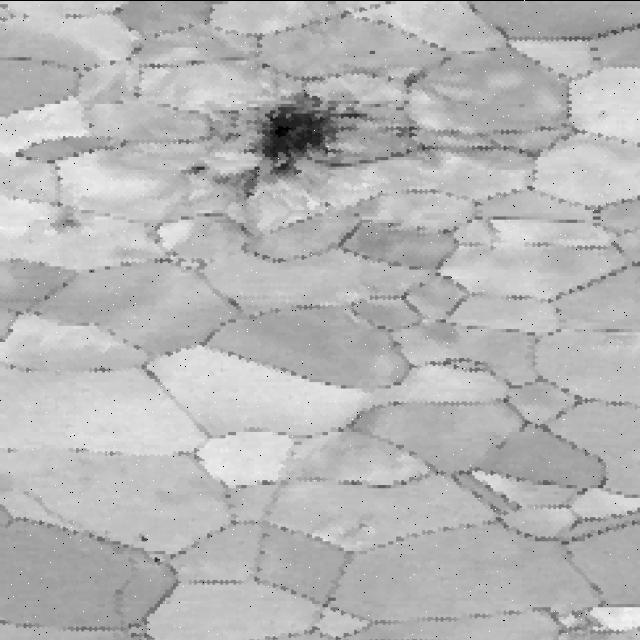good_void: (231, 87, 379, 176), (211, 164, 267, 200), (42, 202, 87, 233), (374, 118, 420, 147), (395, 66, 426, 89), (183, 160, 212, 175), (150, 555, 165, 566), (136, 533, 151, 542), (366, 48, 378, 55)
